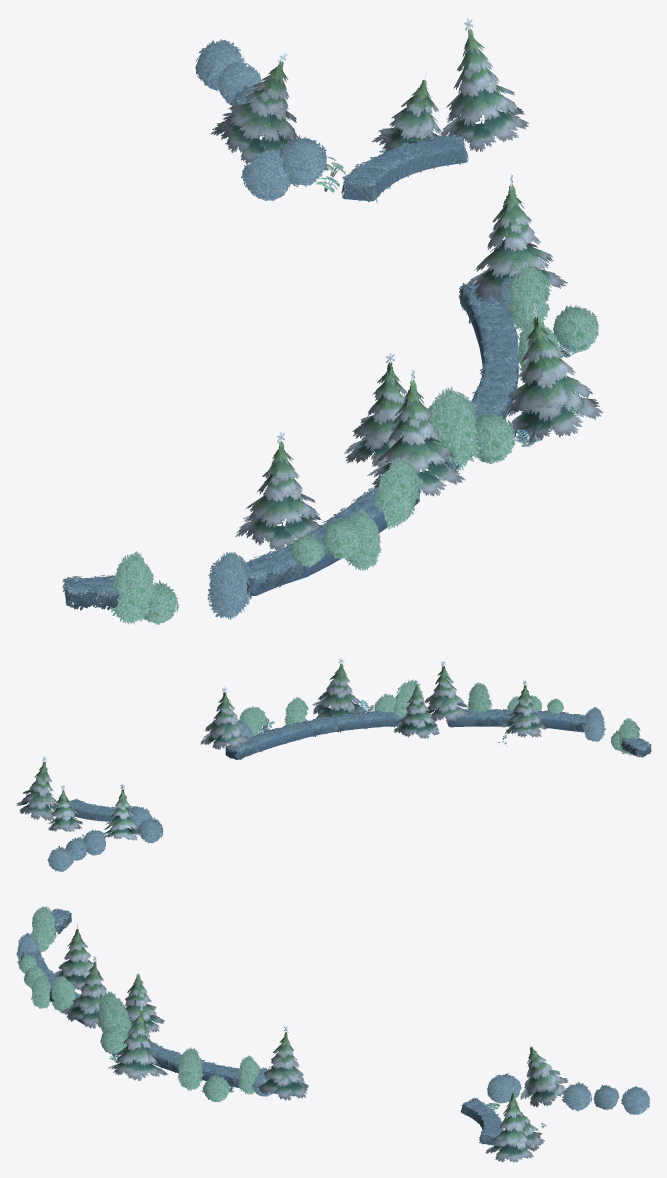
Rendered from pref_sm_beach_bk_winter_pointmol_longplant_L_lv2.fbx.
The picture shows the model from 3 angles, top to bottom: view 1: azimuth 30°, elevation 25°; view 2: azimuth 150°, elevation 25°; view 3: azimuth 270°, elevation 25°; orthographic projection. The views are drawn at different scales.
Visible parts, largest first — view 1: sm_beach_bk_winter_pointmol_longplant_L03_lv2, sm_beach_bk_winter_pointmol_longplant_L04_lv2, sm_beach_bk_winter_pointmol_longplant_L02_lv2, sm_beach_bk_winter_pointmol_longplant_L01_lv2; view 2: sm_beach_bk_winter_pointmol_longplant_L04_lv2, sm_beach_bk_winter_pointmol_longplant_L03_lv2, sm_beach_bk_winter_pointmol_longplant_L01_lv2, sm_beach_bk_winter_pointmol_longplant_L02_lv2; view 3: sm_beach_bk_winter_pointmol_longplant_L04_lv2, sm_beach_bk_winter_pointmol_longplant_L03_lv2, sm_beach_bk_winter_pointmol_longplant_L01_lv2, sm_beach_bk_winter_pointmol_longplant_L02_lv2.
Part boxes in pixels (box(x1,y1,x2,y2)): sm_beach_bk_winter_pointmol_longplant_L03_lv2: box(195, 18, 528, 202); sm_beach_bk_winter_pointmol_longplant_L04_lv2: box(235, 174, 603, 550); sm_beach_bk_winter_pointmol_longplant_L02_lv2: box(62, 457, 422, 624); sm_beach_bk_winter_pointmol_longplant_L01_lv2: box(427, 263, 598, 471); sm_beach_bk_winter_pointmol_longplant_L04_lv2: box(200, 658, 546, 749); sm_beach_bk_winter_pointmol_longplant_L03_lv2: box(16, 756, 163, 871); sm_beach_bk_winter_pointmol_longplant_L01_lv2: box(225, 679, 422, 759); sm_beach_bk_winter_pointmol_longplant_L02_lv2: box(445, 682, 651, 757); sm_beach_bk_winter_pointmol_longplant_L04_lv2: box(54, 923, 308, 1100); sm_beach_bk_winter_pointmol_longplant_L03_lv2: box(460, 1044, 649, 1162); sm_beach_bk_winter_pointmol_longplant_L01_lv2: box(97, 991, 295, 1102); sm_beach_bk_winter_pointmol_longplant_L02_lv2: box(16, 906, 98, 1024).
Size of the model in its own units: 64.41 by 13.11 by 72.81.
